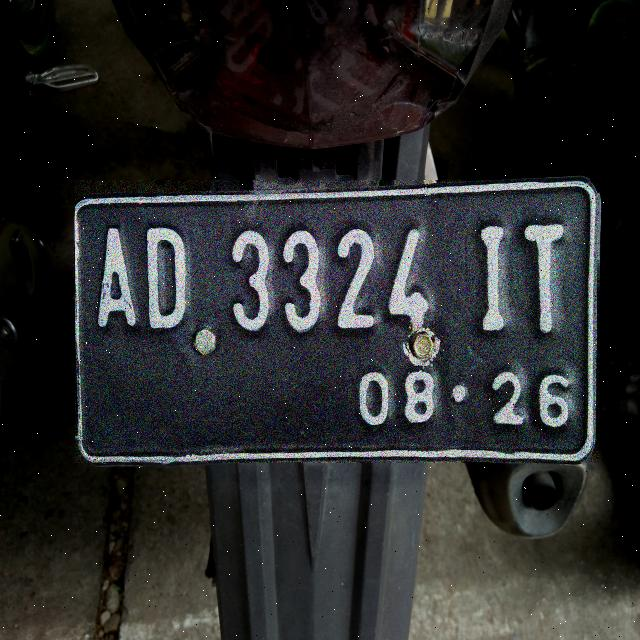plate: (75, 180, 597, 462)
